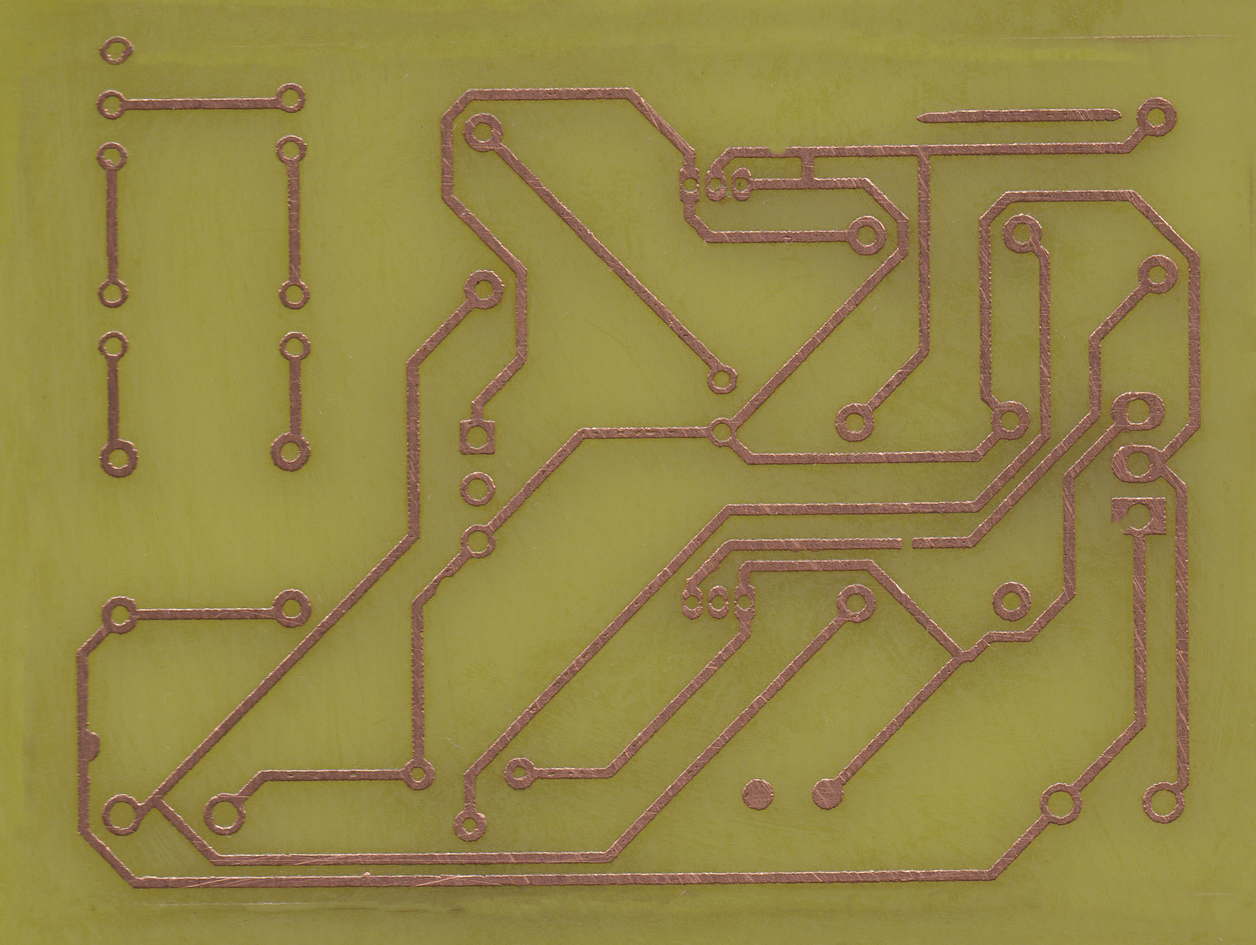missing_hole: (1109, 492, 1170, 540)
mouse_bite: (427, 566, 450, 597), (764, 146, 794, 160)
open_circuit: (897, 534, 921, 552)
short: (798, 146, 820, 189)
spur: (76, 730, 103, 763)
spurious_copper: (917, 107, 1124, 125)
